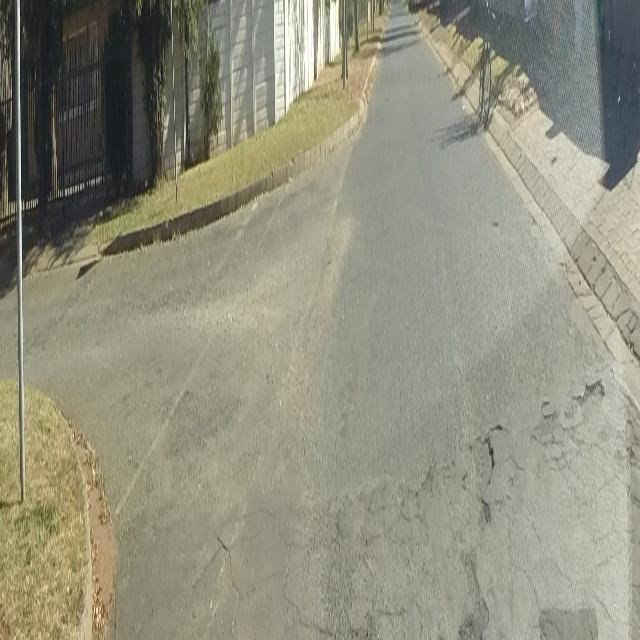pothole: (458, 377, 623, 524)
